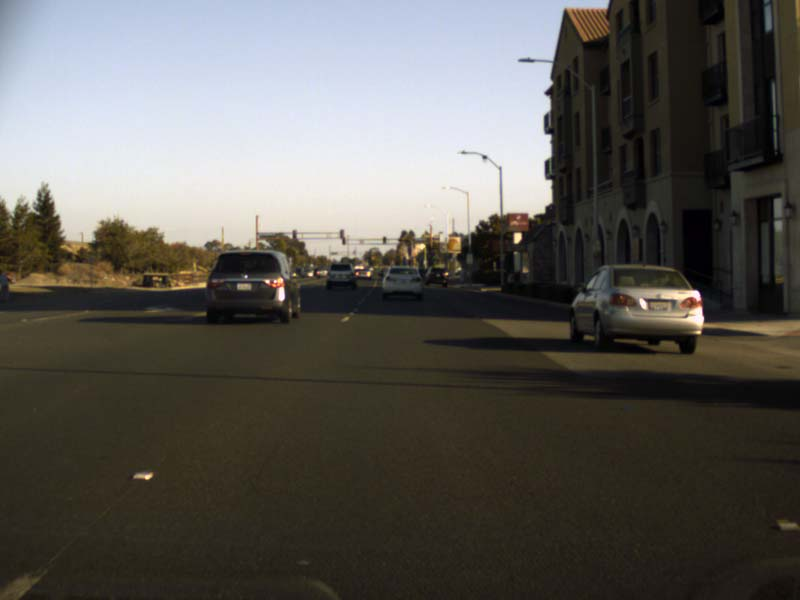Green: (431, 251, 436, 260), (382, 236, 385, 243)
